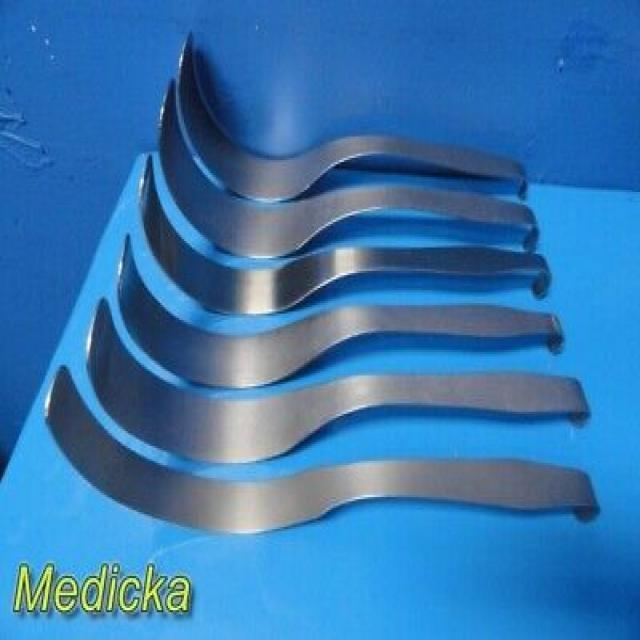Deaver Retractor: (34, 358, 611, 550), (79, 281, 605, 457), (151, 83, 542, 260), (109, 226, 567, 368), (170, 20, 533, 198), (134, 150, 558, 300)
